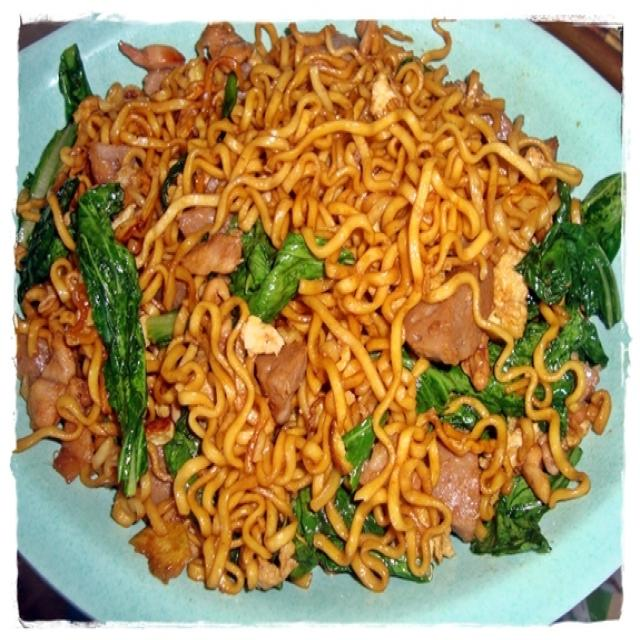面条主食: (38, 34, 608, 584)
